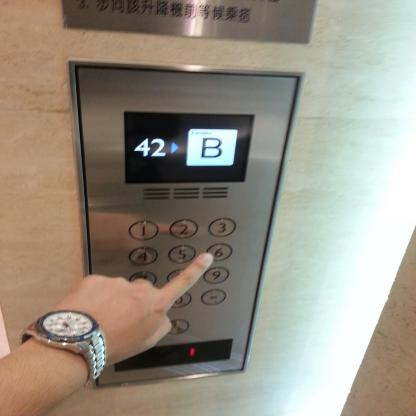-: (200, 287, 230, 306)
1: (126, 218, 160, 241)
2: (166, 217, 200, 240)
3: (205, 215, 239, 238)
4: (126, 243, 160, 267)
5: (166, 242, 197, 264)
6: (204, 240, 235, 262)
9: (201, 265, 231, 284)
led: (118, 107, 256, 185), (108, 336, 235, 372)
